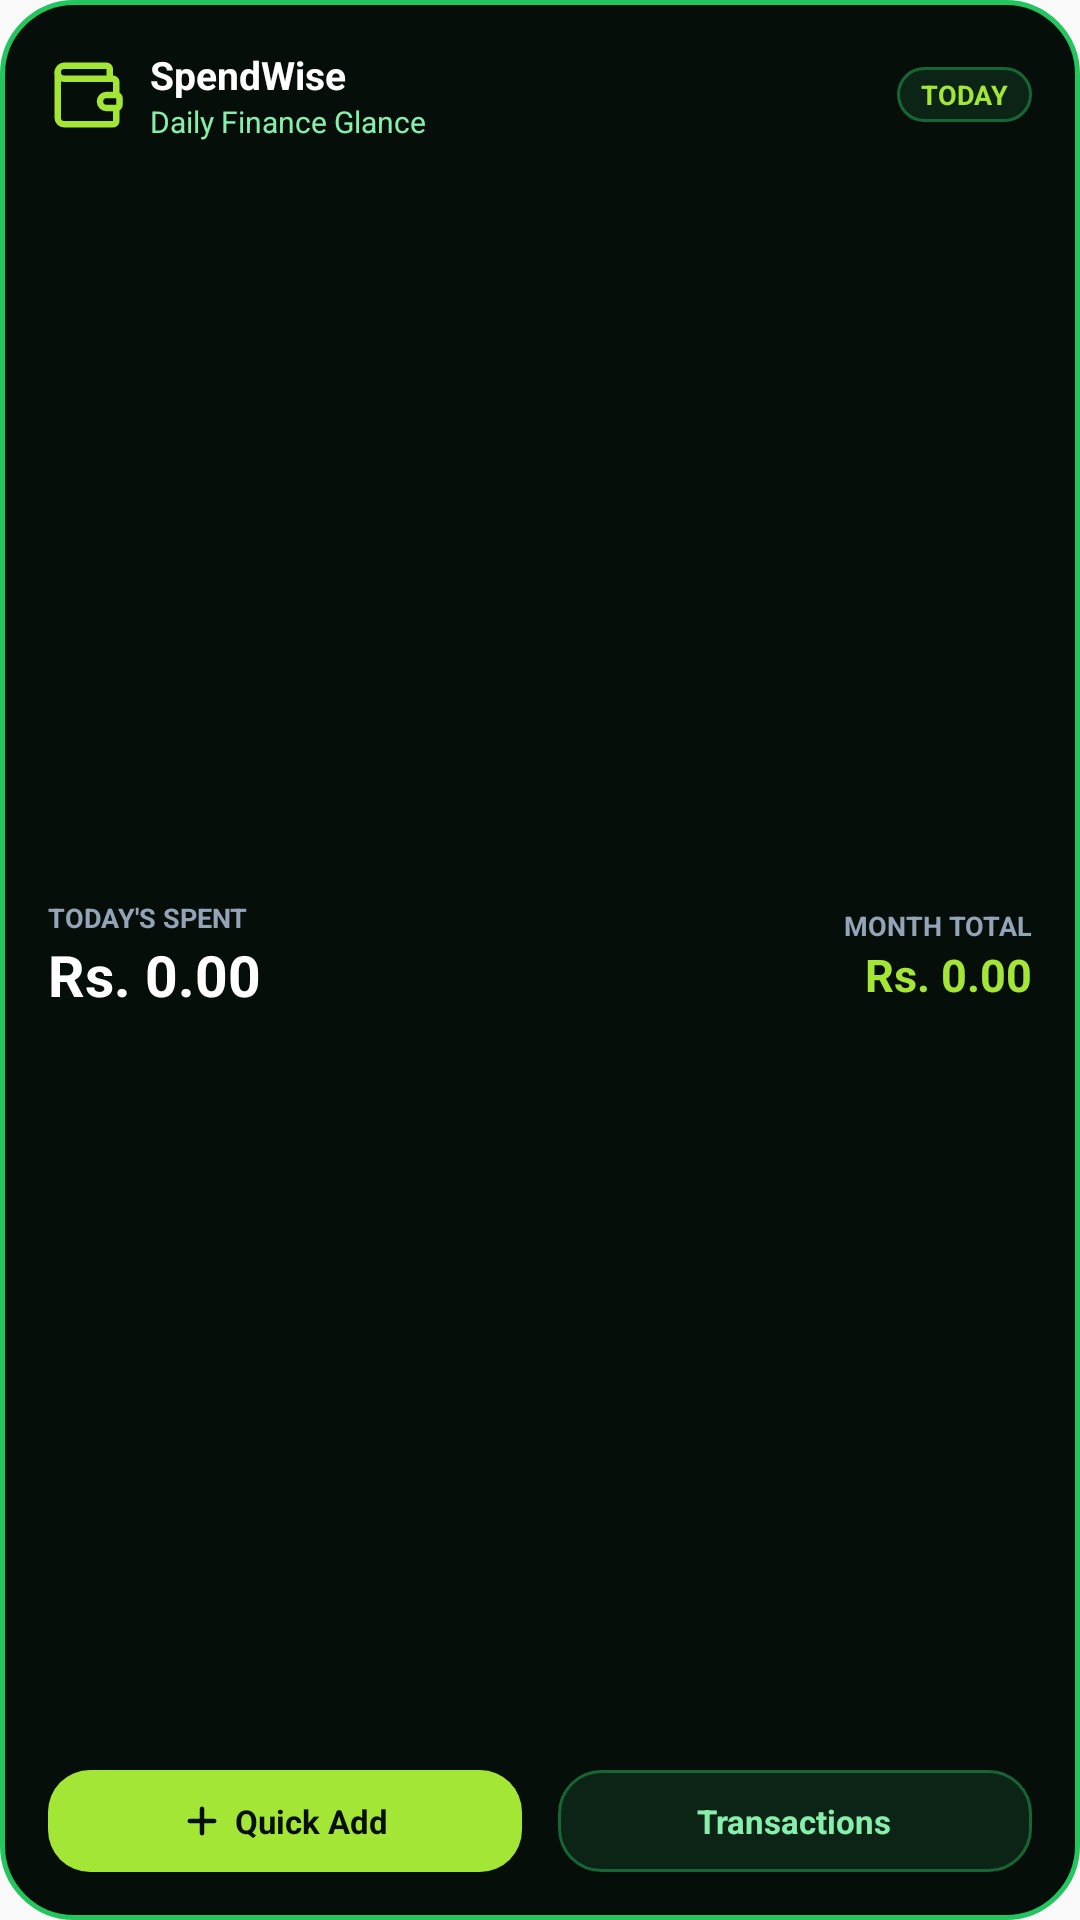

Named icons in this screenshot (1080*1920) and their centers, (x,y):
widget plus: (202,1821)
widget wallet: (88,95)
